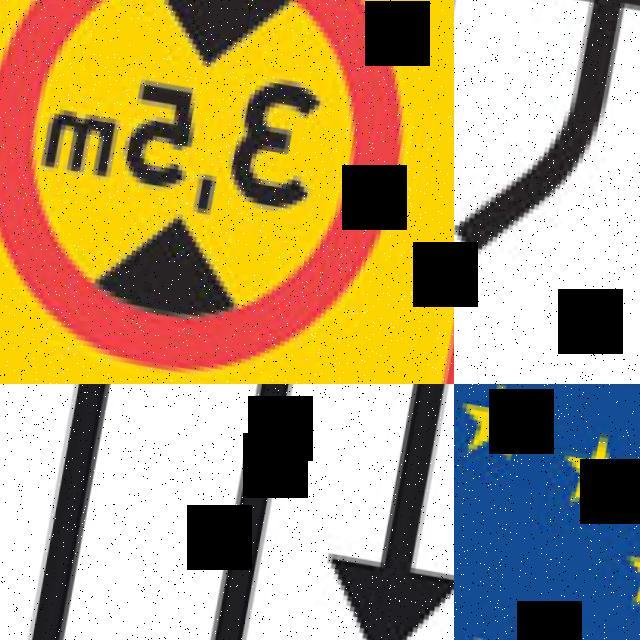170: (454, 0, 640, 384)
66: (0, 384, 454, 640)
82: (0, 0, 454, 384)
National border: (454, 384, 640, 640)
